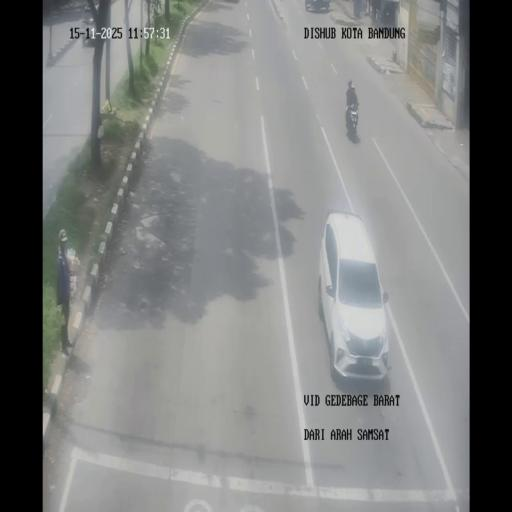car: (320, 212, 390, 382), (81, 4, 97, 46)
motorcycle: (345, 98, 359, 140), (374, 6, 382, 22)
